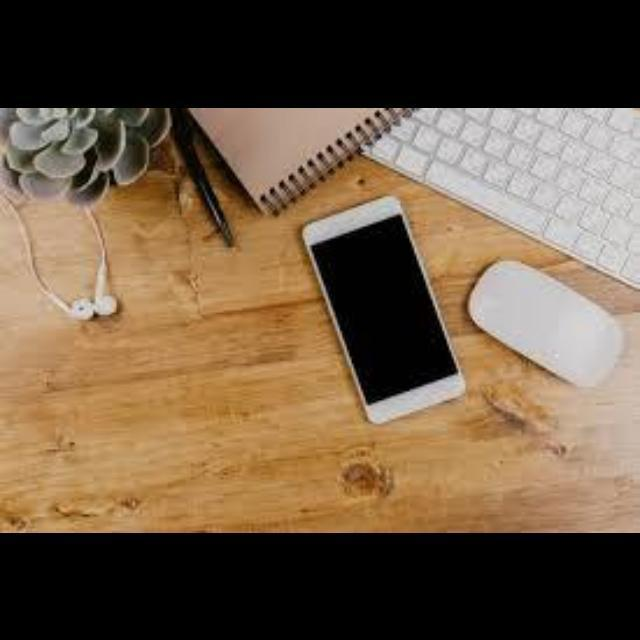phone: (312, 214, 458, 410)
